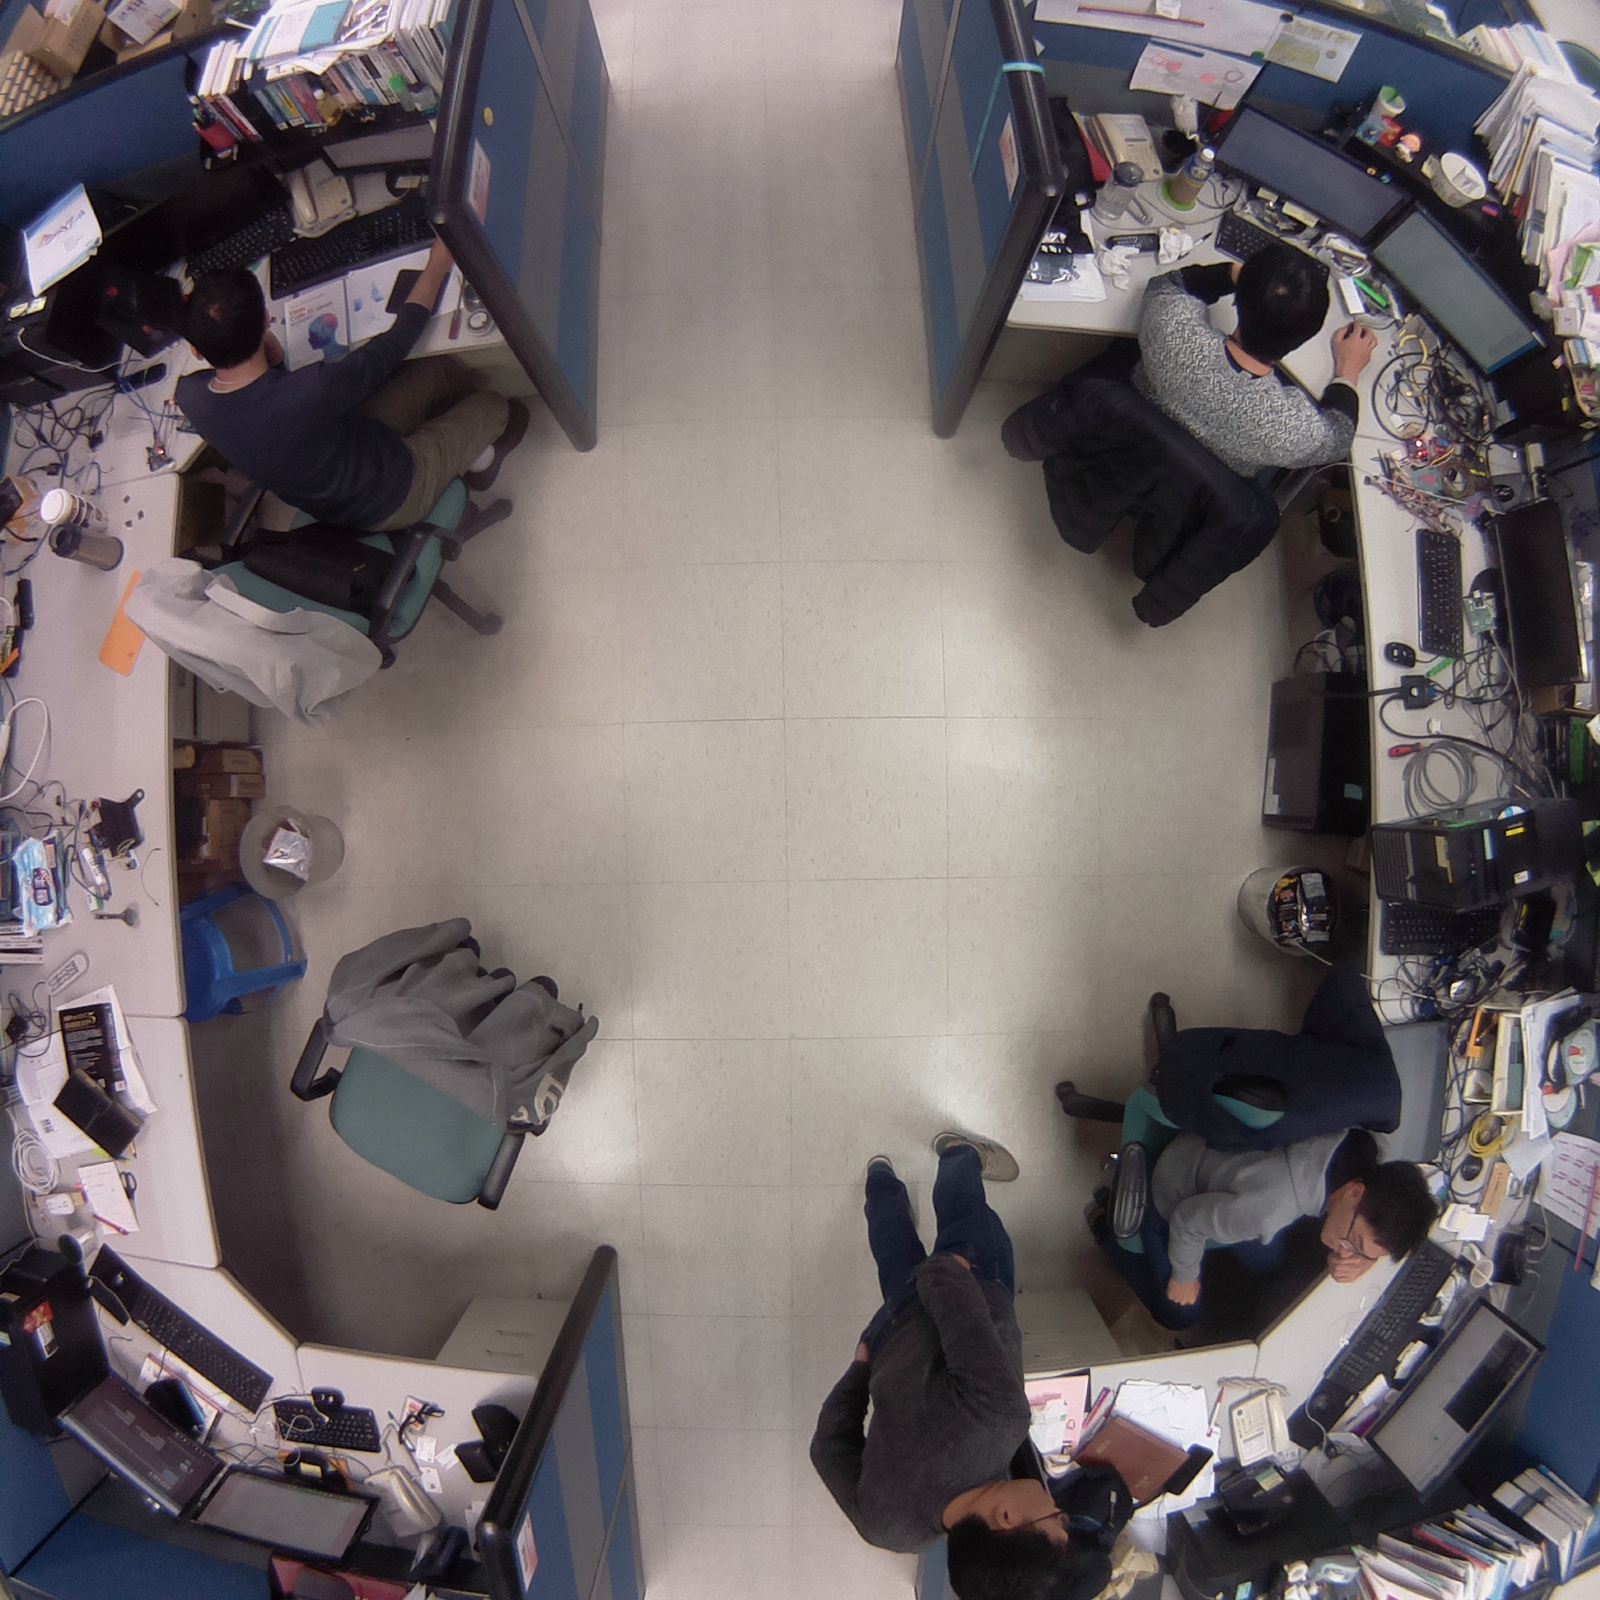chair: (276, 906, 637, 1229)
head: (942, 1489, 1086, 1600), (1229, 236, 1340, 359), (1338, 1148, 1446, 1263), (170, 257, 280, 363)
sitting: (101, 264, 555, 740), (983, 235, 1376, 658), (1037, 970, 1447, 1340)
standing: (788, 1107, 1094, 1600)
